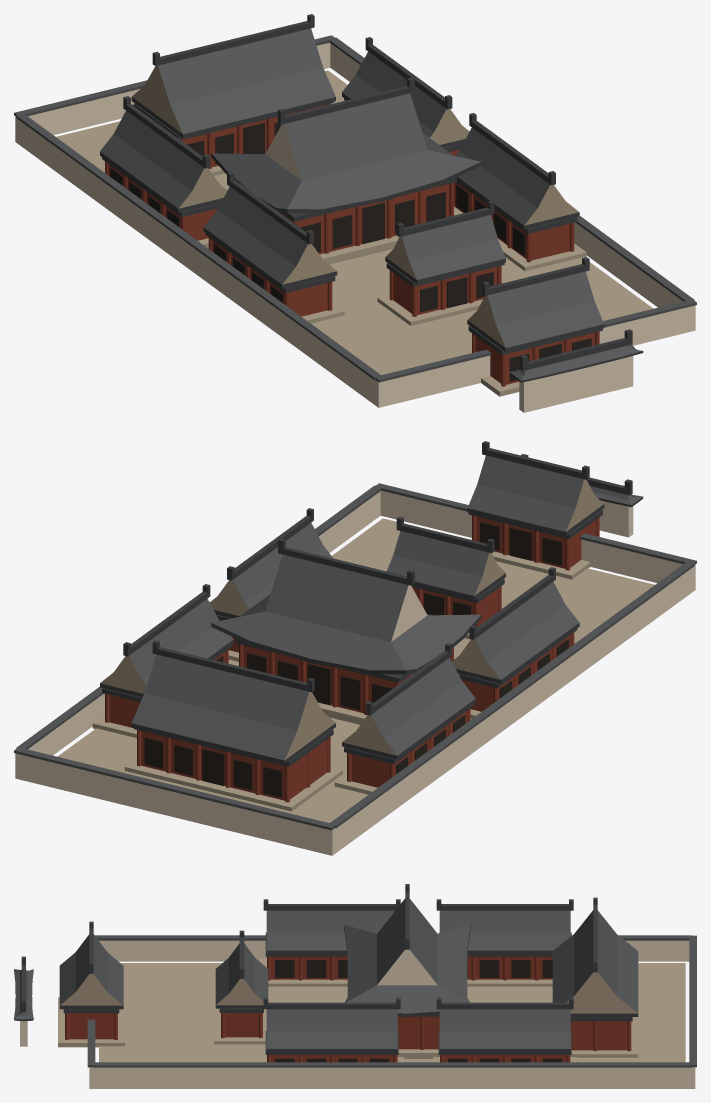
Rendered from K08_far.glb.
The picture shows the model from 3 angles, top to bottom: view 1: azimuth 30°, elevation 25°; view 2: azimuth 150°, elevation 25°; view 3: azimuth 270°, elevation 25°; orthographic projection. The views are drawn at different scales.
Visible parts, largest first — view 1: K08_far; view 2: K08_far; view 3: K08_far.
Boxes of the visible parts, x1,y1,x2,y2 form: K08_far: (14,14,696,412); K08_far: (14,441,696,855); K08_far: (14,884,696,1088).
Bounding box in the file's own units: 41 × 16.55 × 90.81.
